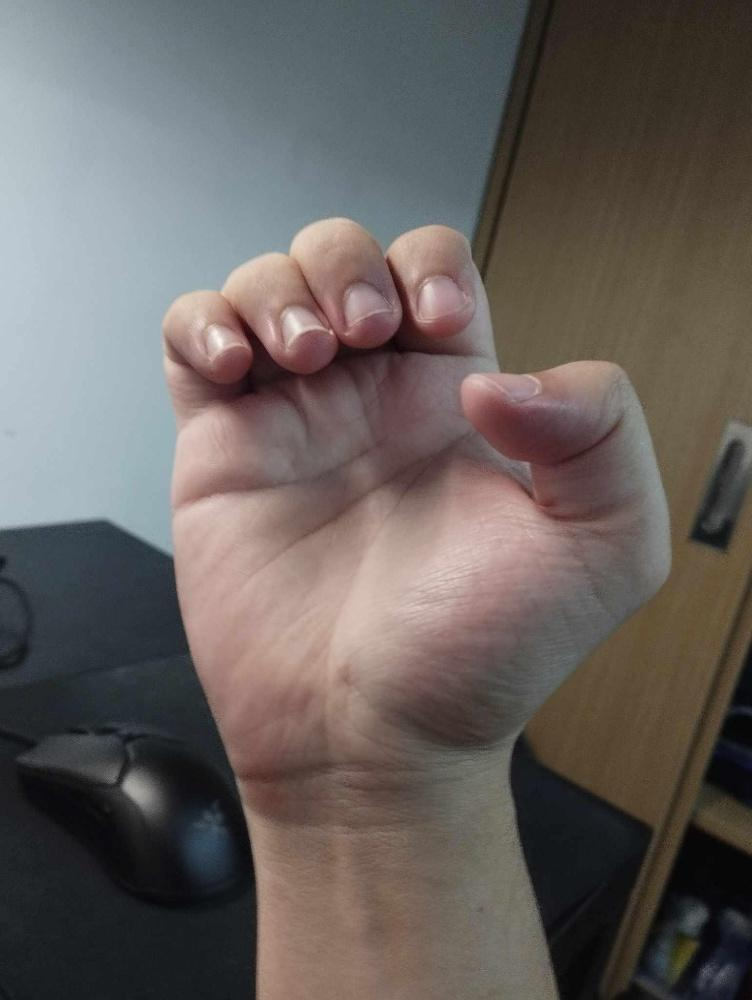e: (155, 209, 678, 790)
